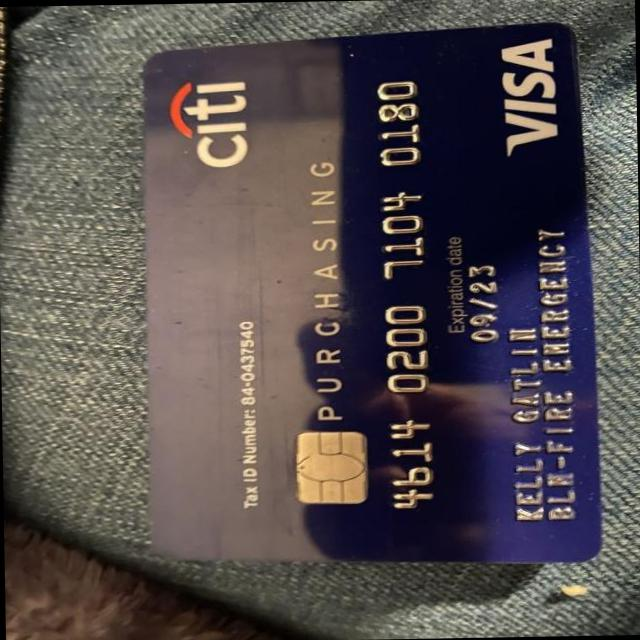card: (141, 18, 602, 561)
